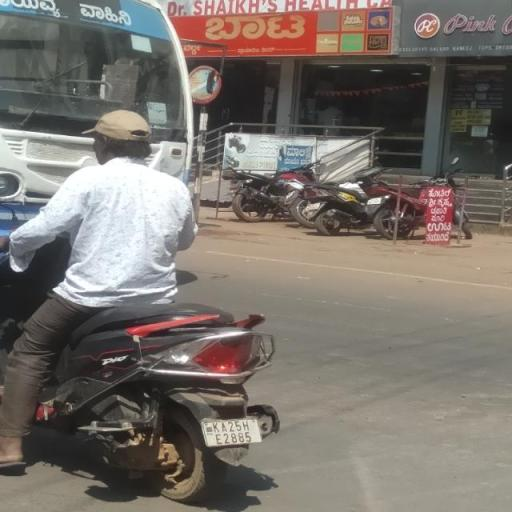bike: (1, 102, 284, 504)
numberplate: (204, 414, 270, 450)
withouthelmet: (96, 110, 150, 160)
